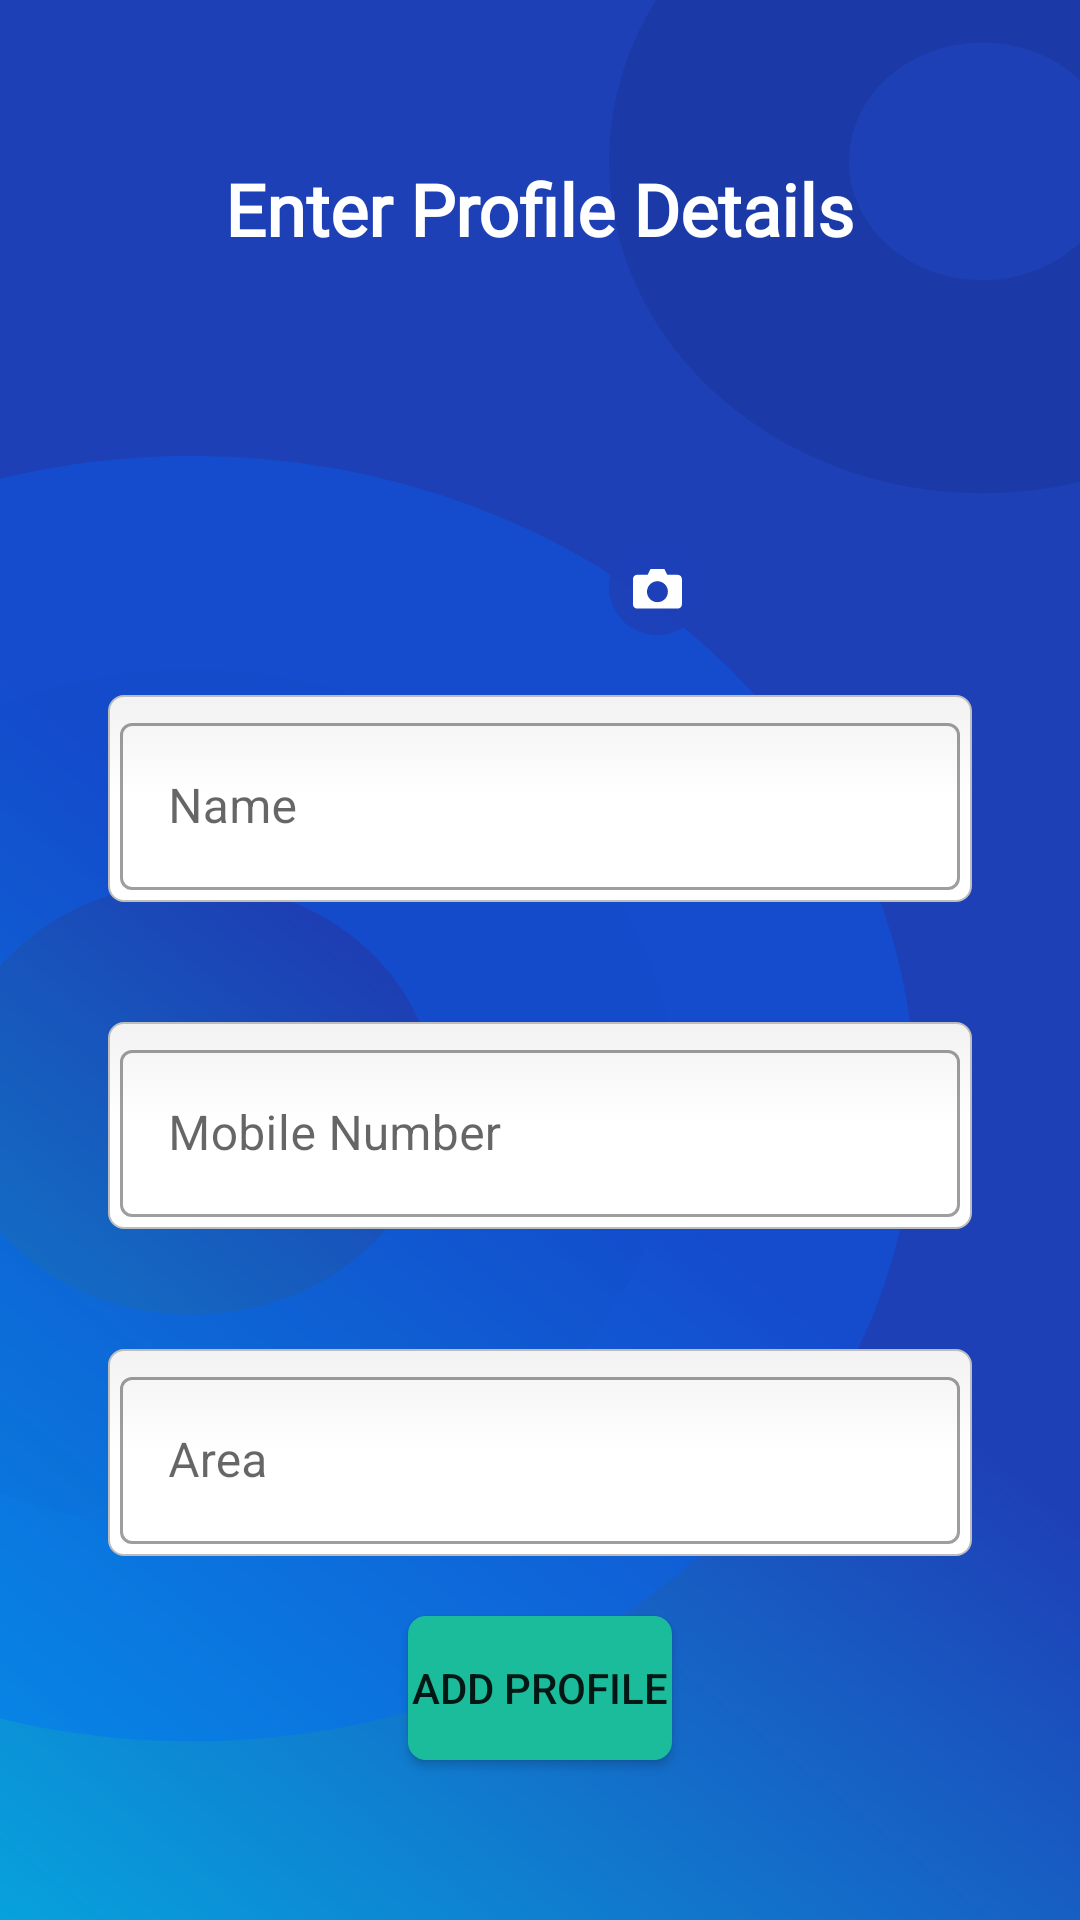

Icon bounding boxes for this 1080*1920 phone screenshot, format (x1, y1, x2, y2):
camera: (633, 569, 682, 609)
